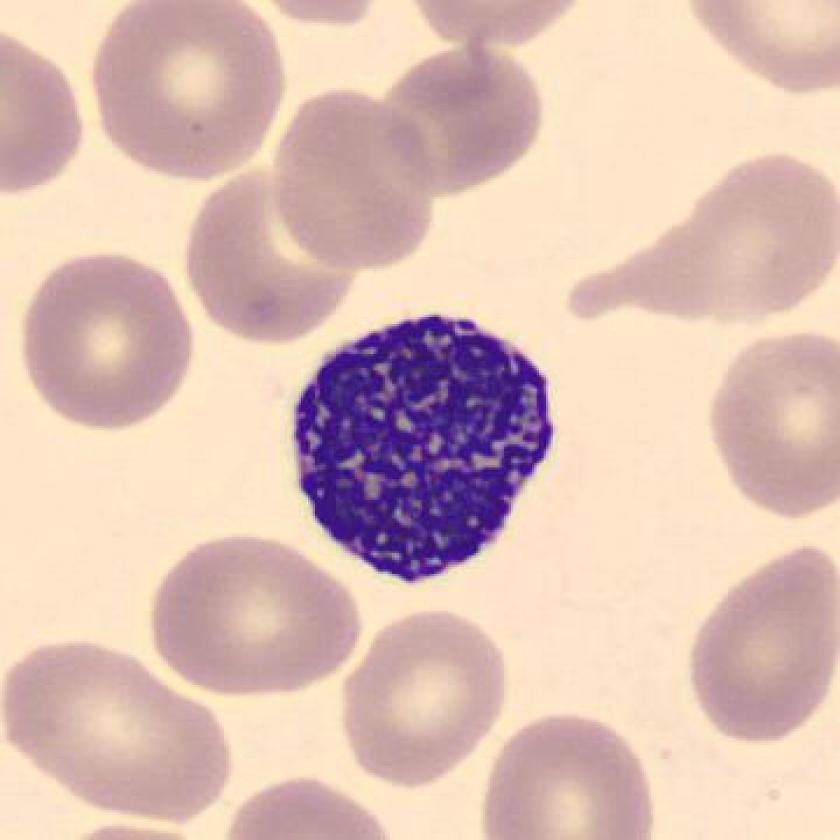basophil: (288, 299, 559, 589)
